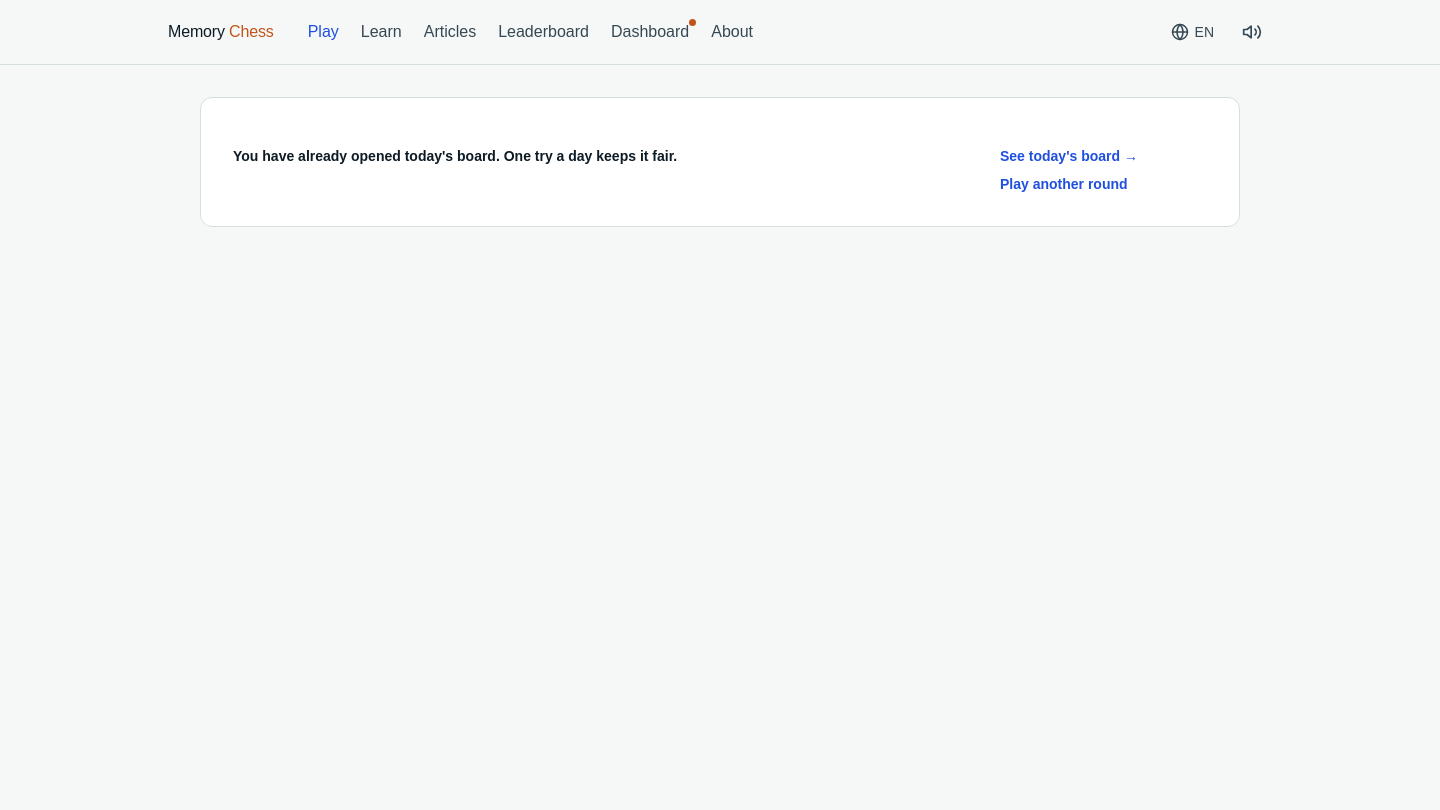
it: GamePage daily board link › refuses a second attempt today with a message in the form's place, until the player chooses a round
The width and height of the screenshot is (1440, 810).
expect the text "You have already opened today's board. One try a day keeps it fair." is shown: met, box [233,146,713,166]
Click the button "Play another round" at (1064, 184), box [1000,174,1128,194]
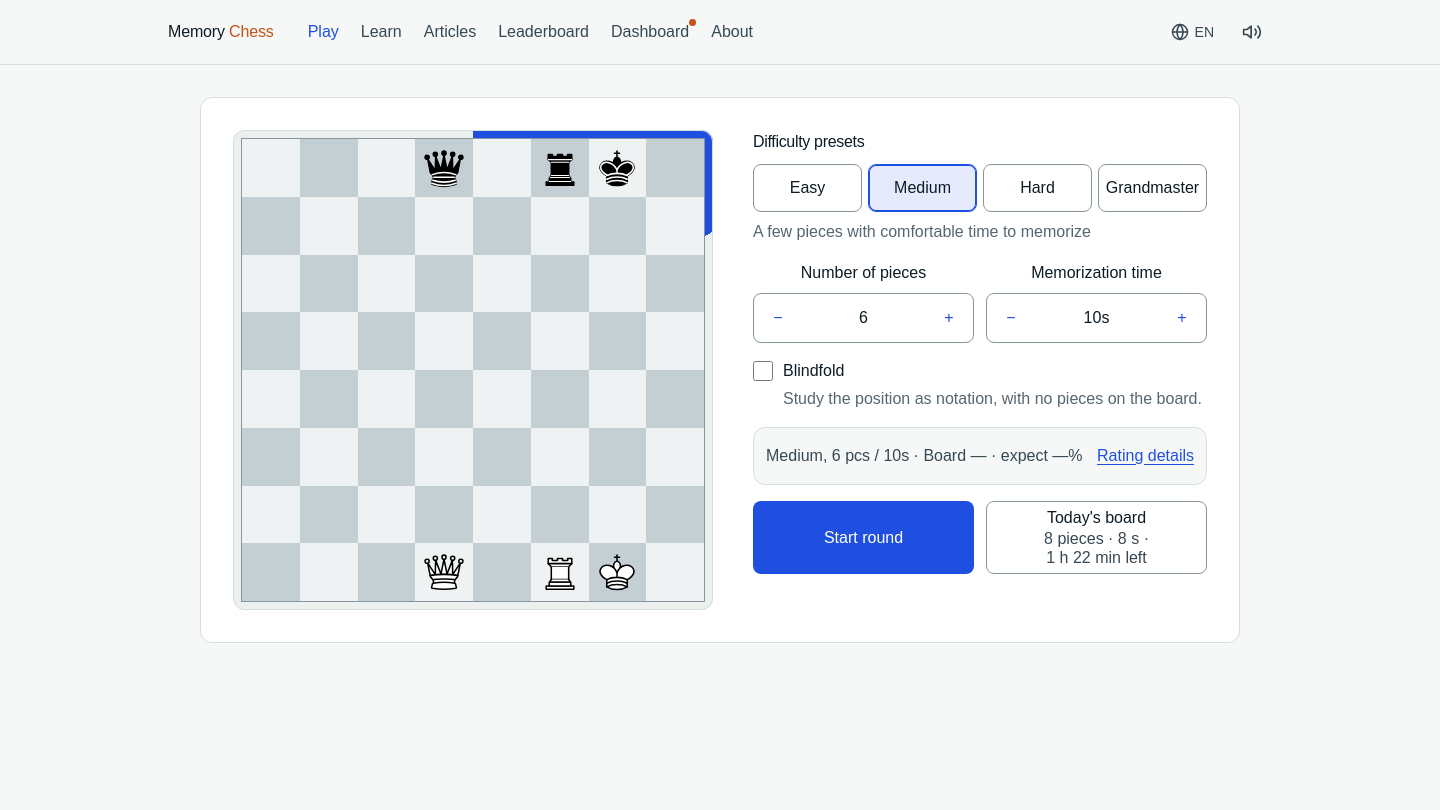
expect the element that starts with "Difficulty presets" is shown: met, box [200,97,1240,643]
